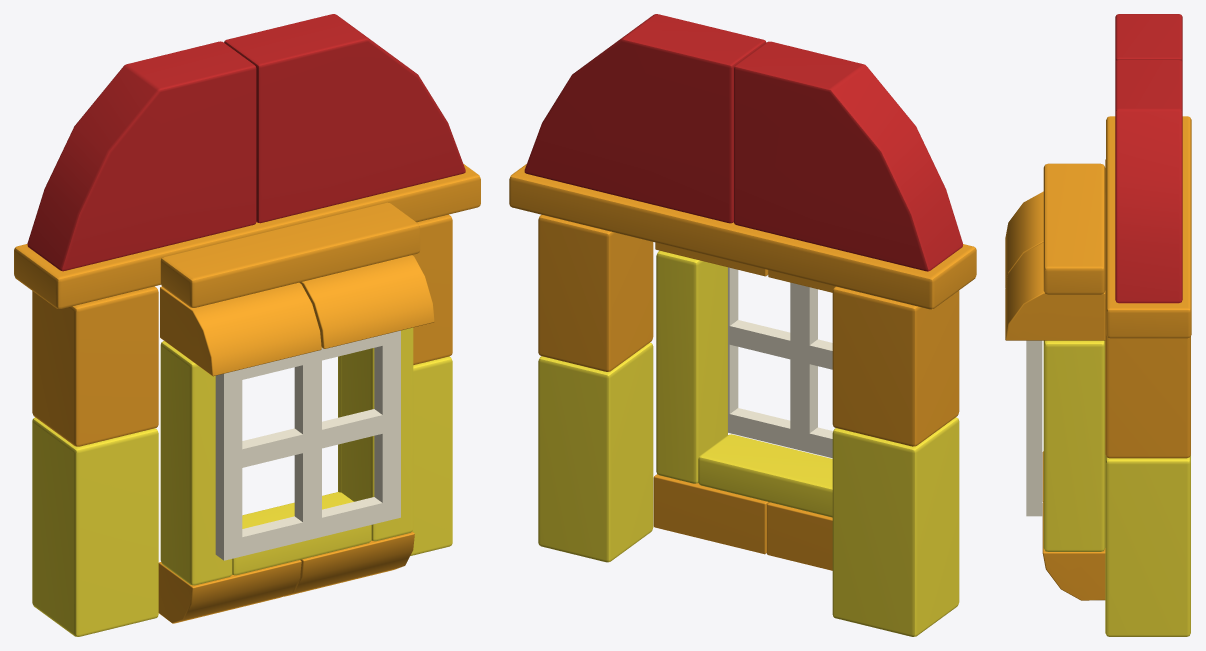
3 views of the same model, side by side, from view 1: azimuth 30°, elevation 25°; view 2: azimuth 150°, elevation 25°; view 3: azimuth 270°, elevation 25° (orthographic). The views are drawn at different scales.
Parts seen in each view (by area): view 1: base_06; view 2: base_06; view 3: base_06.
Boxes of the visible parts, x1,y1,x2,y2 form: base_06: [14, 14, 480, 636]; base_06: [509, 14, 976, 636]; base_06: [1005, 14, 1191, 636].
Size of the model in its own units: 11761 by 13870 by 4759.
Materials: 1 (1 with a texture image).
